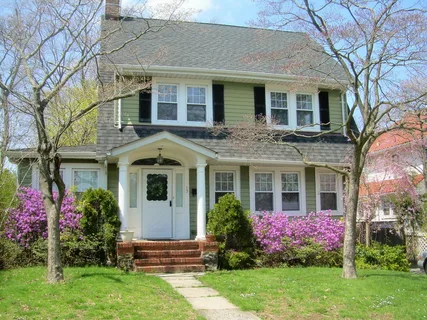private_hause: (91, 3, 368, 274)
